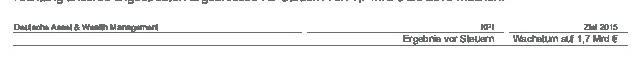table: (0, 0, 636, 60)
